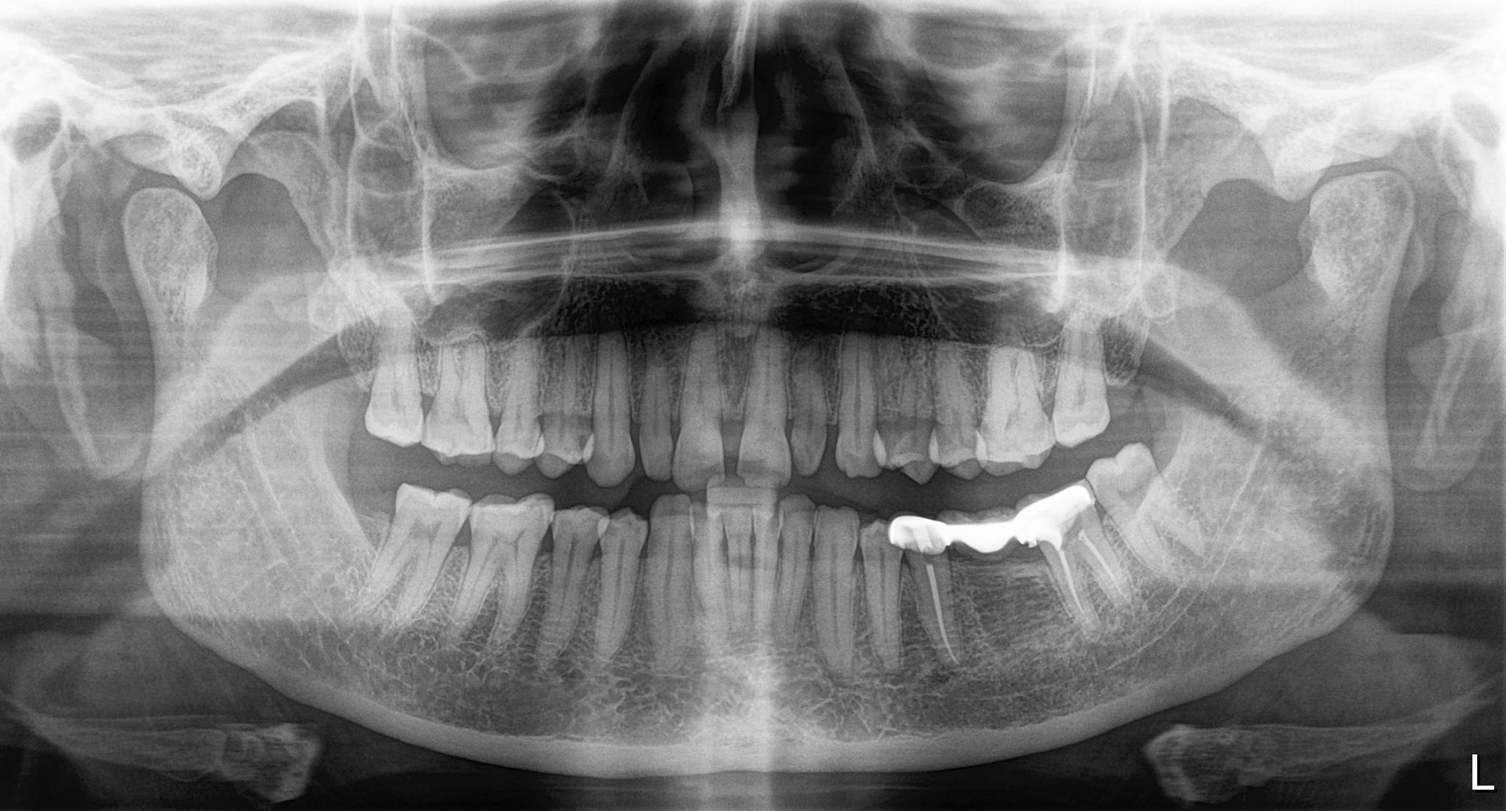Endodontically Treated Tooth: (1035, 500, 1118, 639), (961, 518, 1036, 659), (899, 529, 971, 661)
Missing Tooth: (342, 472, 390, 588)
